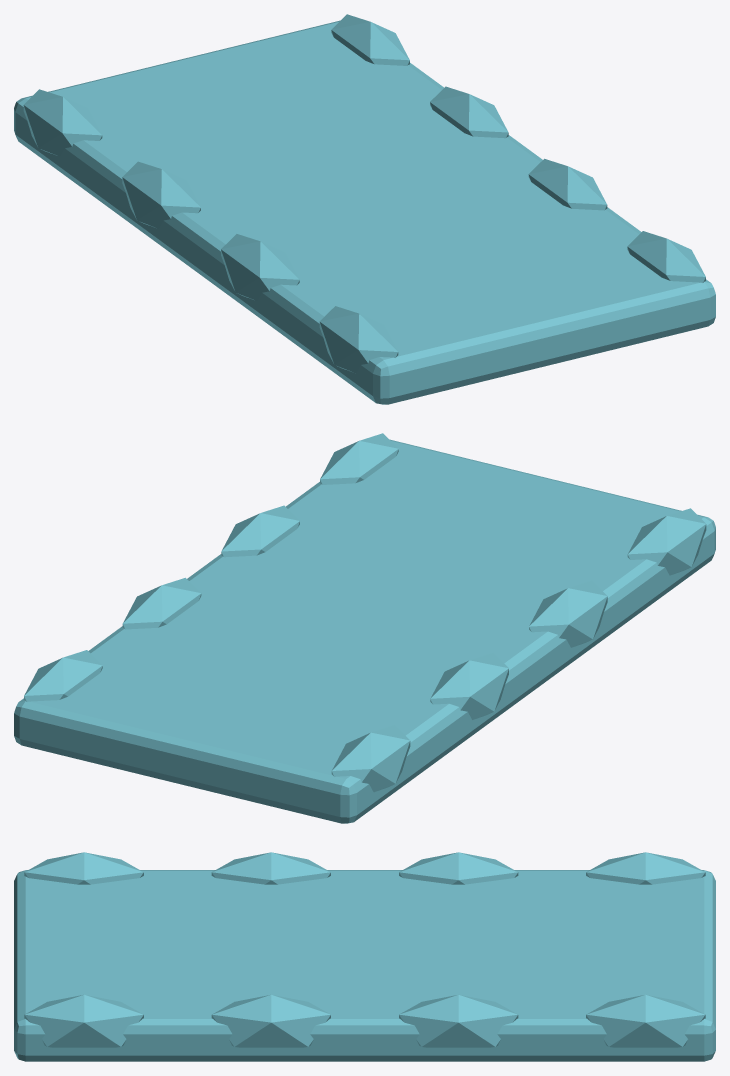
File: SM_IceBridge_300.glb
3 renders of one model, top to bottom at view 1: azimuth 30°, elevation 25°; view 2: azimuth 150°, elevation 25°; view 3: azimuth 270°, elevation 25°, orthographic. The views are drawn at different scales.
Parts seen in each view (by area): view 1: SM_IceBridge_300; view 2: SM_IceBridge_300; view 3: SM_IceBridge_300.
Boxes of the visible parts, left/top/right/bottom form: SM_IceBridge_300: left=14, top=14, right=715, bottom=404; SM_IceBridge_300: left=14, top=433, right=715, bottom=823; SM_IceBridge_300: left=14, top=852, right=715, bottom=1061.
Bounding box in the file's own units: 1.67 × 0.3 × 3.
